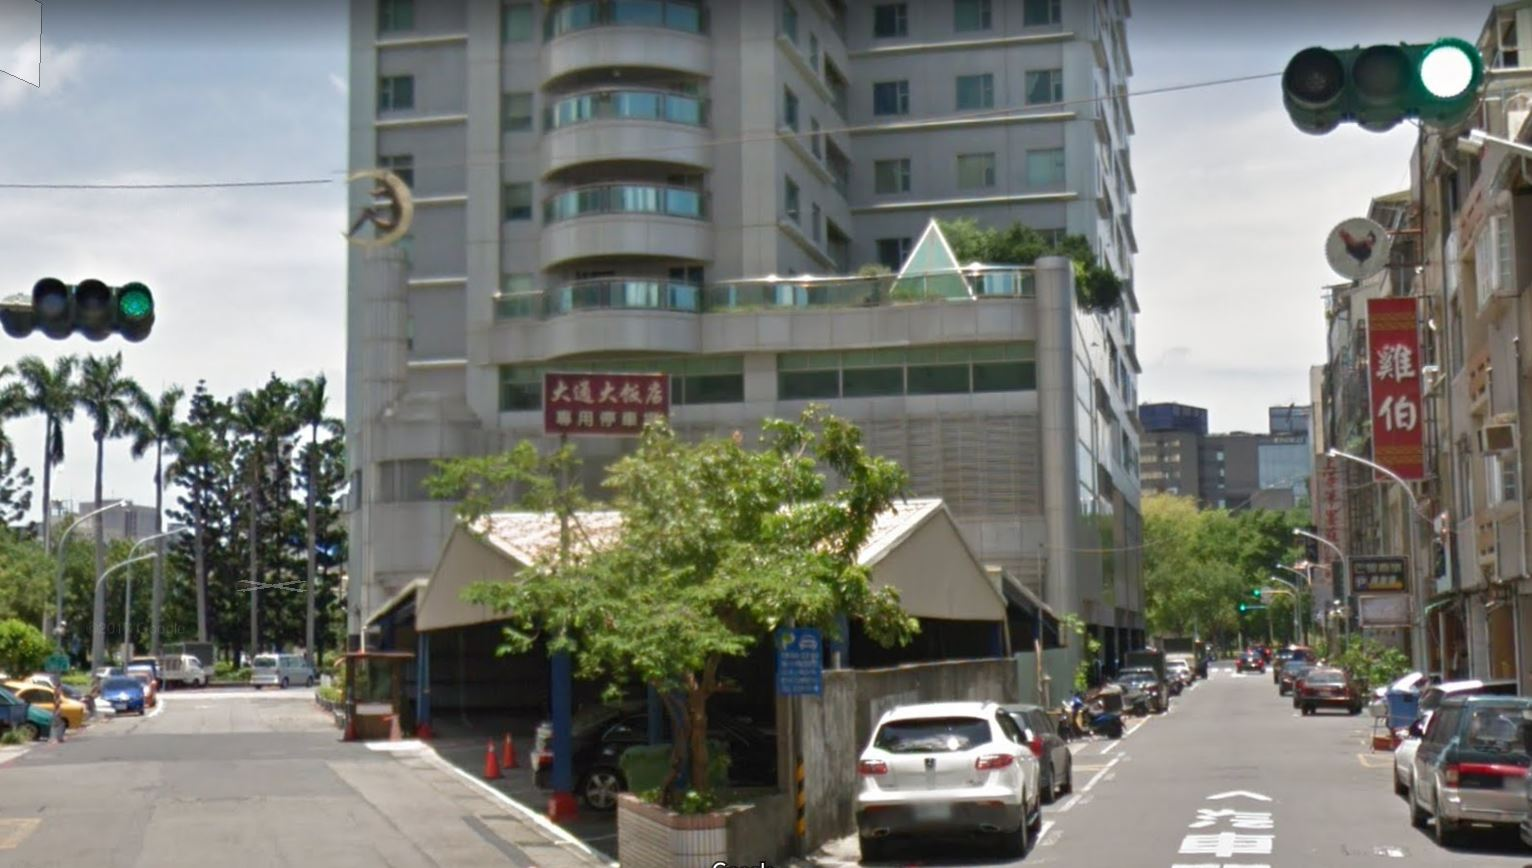Traffic_light_green: (1275, 36, 1491, 142), (29, 274, 159, 346)
car: (849, 687, 1055, 859)
